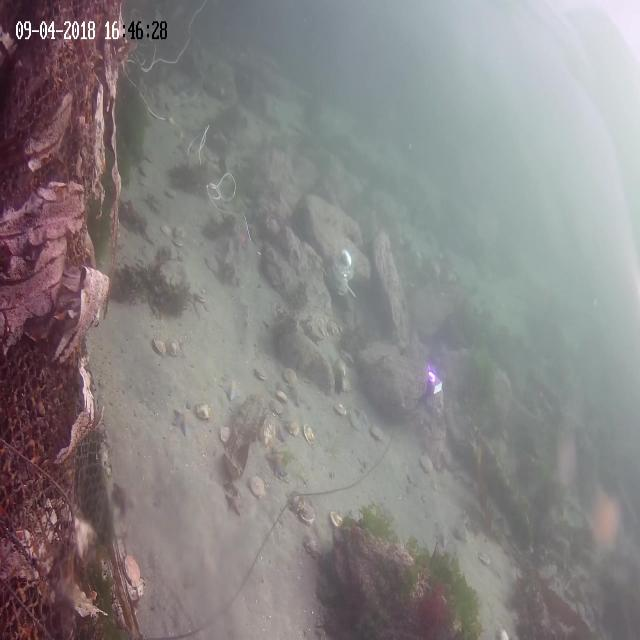scallop: (122, 554, 143, 590), (302, 533, 322, 559), (260, 419, 276, 446), (252, 362, 270, 385), (250, 474, 266, 499), (288, 488, 304, 512), (370, 422, 387, 444), (196, 398, 213, 420), (282, 368, 298, 390), (150, 335, 166, 357), (298, 503, 314, 525), (158, 219, 174, 239), (328, 508, 344, 527), (419, 452, 434, 472), (270, 394, 283, 417), (162, 182, 178, 200), (332, 400, 348, 417), (304, 422, 316, 444), (286, 417, 299, 435), (168, 338, 180, 357), (164, 242, 177, 258), (478, 548, 491, 564), (192, 288, 206, 302)
starfish: (111, 481, 137, 517), (173, 405, 197, 436), (433, 517, 455, 550), (220, 373, 242, 402), (224, 489, 244, 515), (355, 403, 370, 429), (234, 229, 248, 252)
